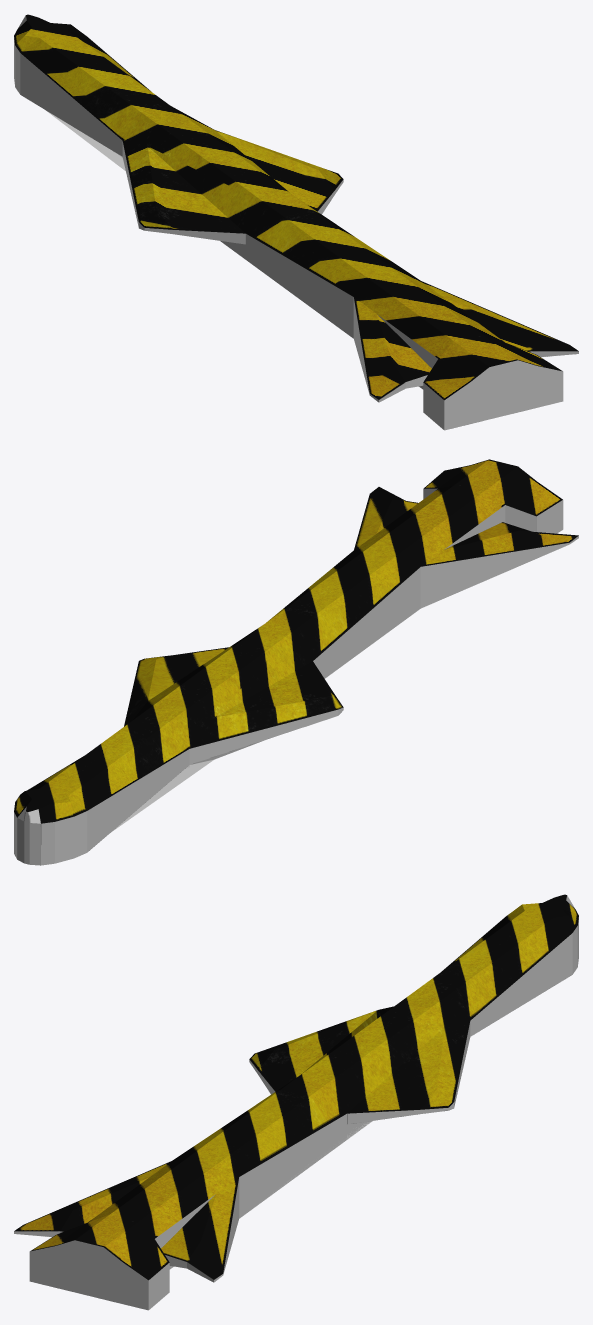
The model's file is Missile_3D.fbx.
3 renders of one model, top to bottom at view 1: azimuth 30°, elevation 25°; view 2: azimuth 150°, elevation 25°; view 3: azimuth 330°, elevation 25°, orthographic.
Parts seen in each view (by area): view 1: Missile; view 2: Missile; view 3: Missile.
Boxes of the visible parts, left/top/right/bottom form: Missile: left=14, top=14, right=578, bottom=430; Missile: left=14, top=459, right=578, bottom=865; Missile: left=14, top=894, right=578, bottom=1310.
Size of the model in its own units: 1001 by 250 by 4131.
Materials: 1 (1 with a texture image).
